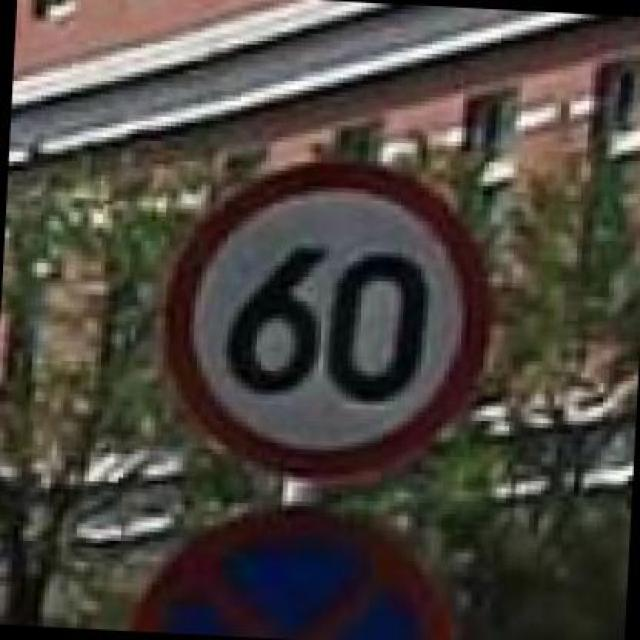Limite-60: (159, 153, 496, 484)
